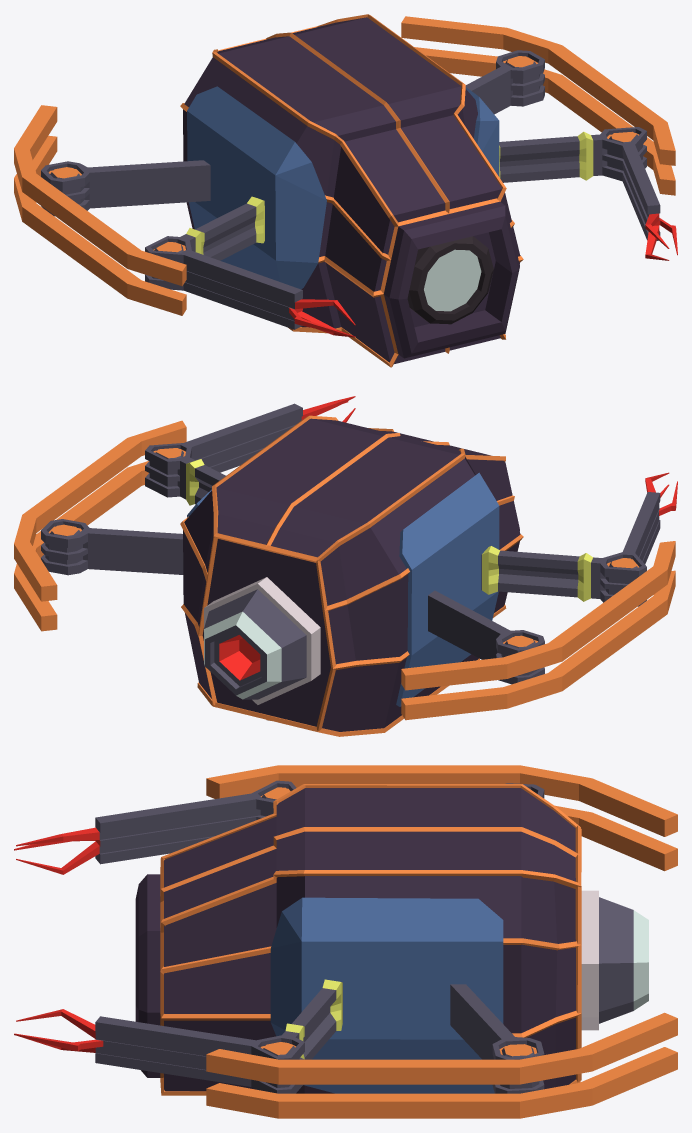
The model's file is Salvage_Drone.fbx.
The picture shows the model from 3 angles, top to bottom: view 1: azimuth 30°, elevation 25°; view 2: azimuth 150°, elevation 25°; view 3: azimuth 270°, elevation 25°; orthographic projection. The views are drawn at different scales.
Visible parts, largest first — view 1: Scrap_LOD0; view 2: Scrap_LOD0; view 3: Scrap_LOD0.
Part boxes in pixels (x1,y1,x2,y2): Scrap_LOD0: (14, 14, 677, 367); Scrap_LOD0: (14, 396, 677, 736); Scrap_LOD0: (14, 765, 677, 1118).
Size of what is drawn, in the model's own units: 760 by 279 by 705.
